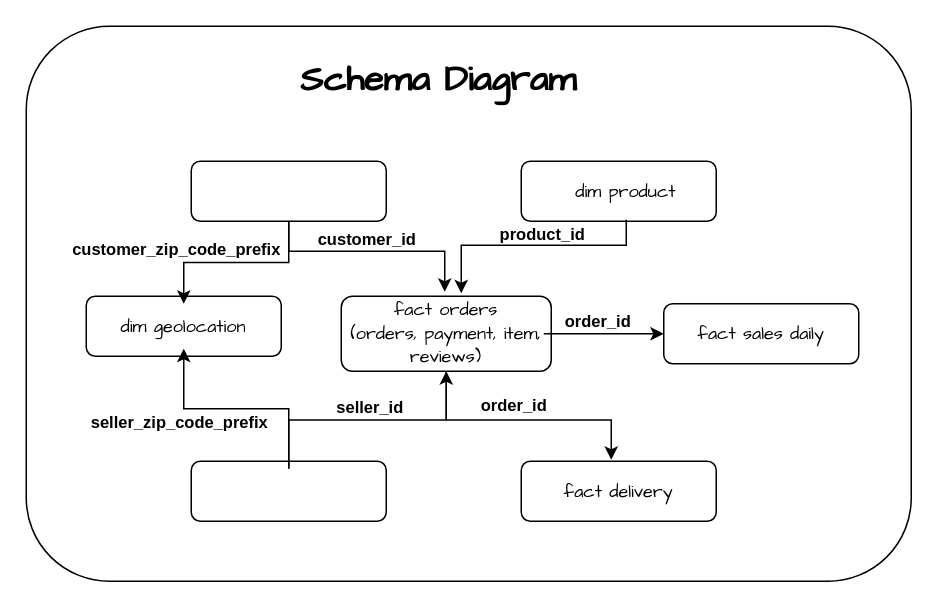
Some shapes in this 938 by 608 pixel diagram are drawn without their labels. Each missing label, with the centre of its shape:
dim customer: point 288,190
dim seller: point 288,490
